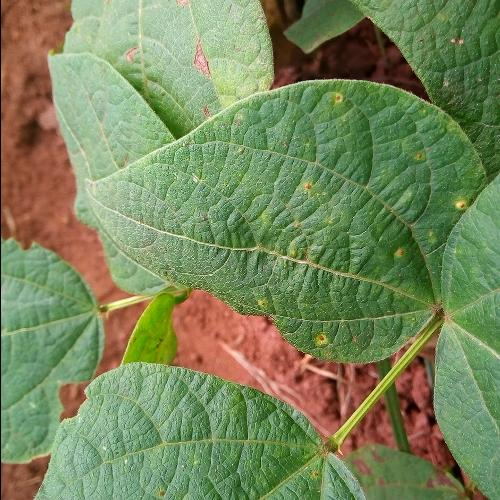hawar: (179, 32, 221, 90)
mozaik: (170, 132, 453, 274), (70, 390, 280, 480)
